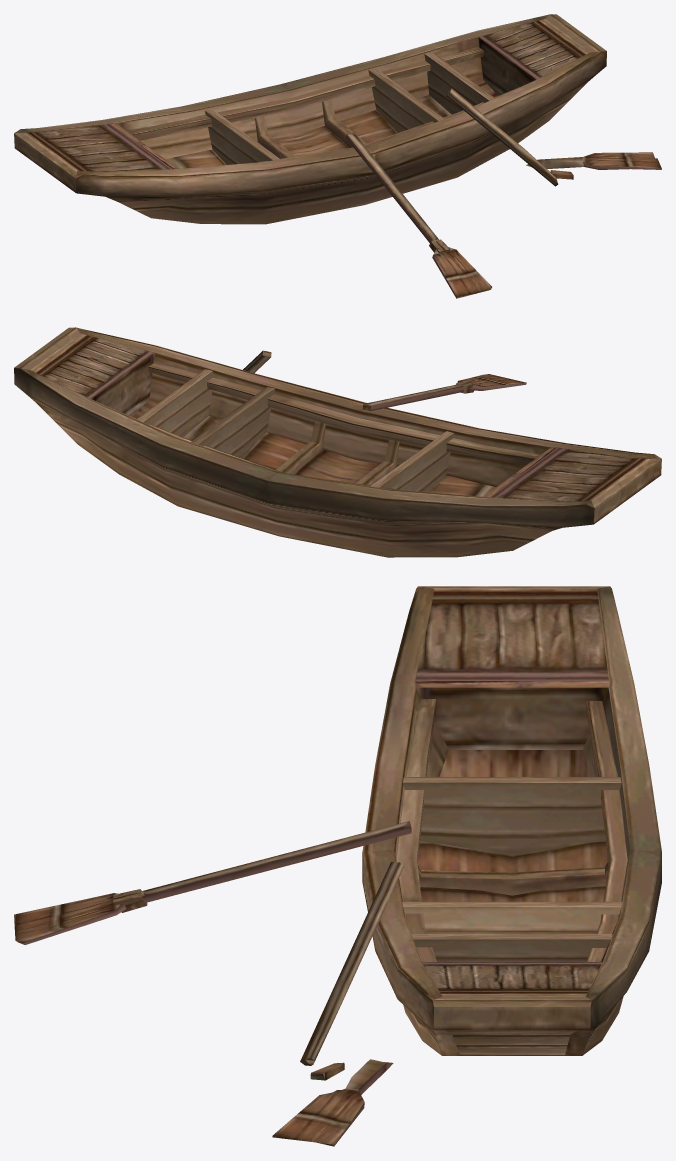
The model's file is lshd_thing_misc014.FBX.
3 renders of one model, top to bottom at view 1: azimuth 30°, elevation 25°; view 2: azimuth 150°, elevation 25°; view 3: azimuth 270°, elevation 25°, orthographic. The views are drawn at different scales.
Parts seen in each view (by area): view 1: lshd_thing_misc014; view 2: lshd_thing_misc014; view 3: lshd_thing_misc014.
Boxes of the visible parts, <box> form: lshd_thing_misc014: <box>14,14,661,298</box>; lshd_thing_misc014: <box>14,327,661,557</box>; lshd_thing_misc014: <box>14,586,661,1146</box>.
Bounding box in the file's own units: 679 × 111 × 443.
